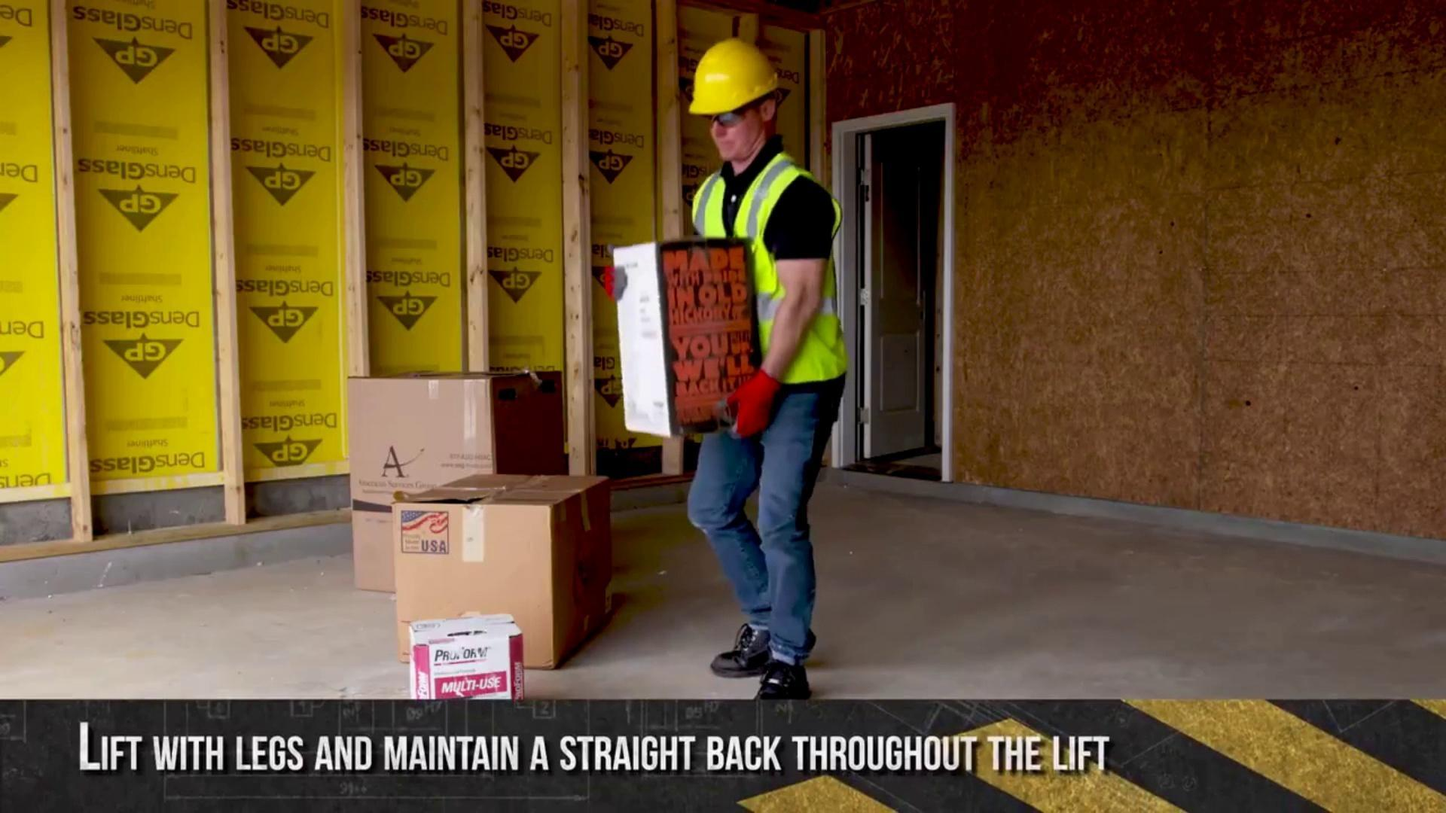apron: (723, 370, 790, 440), (589, 263, 633, 303)
